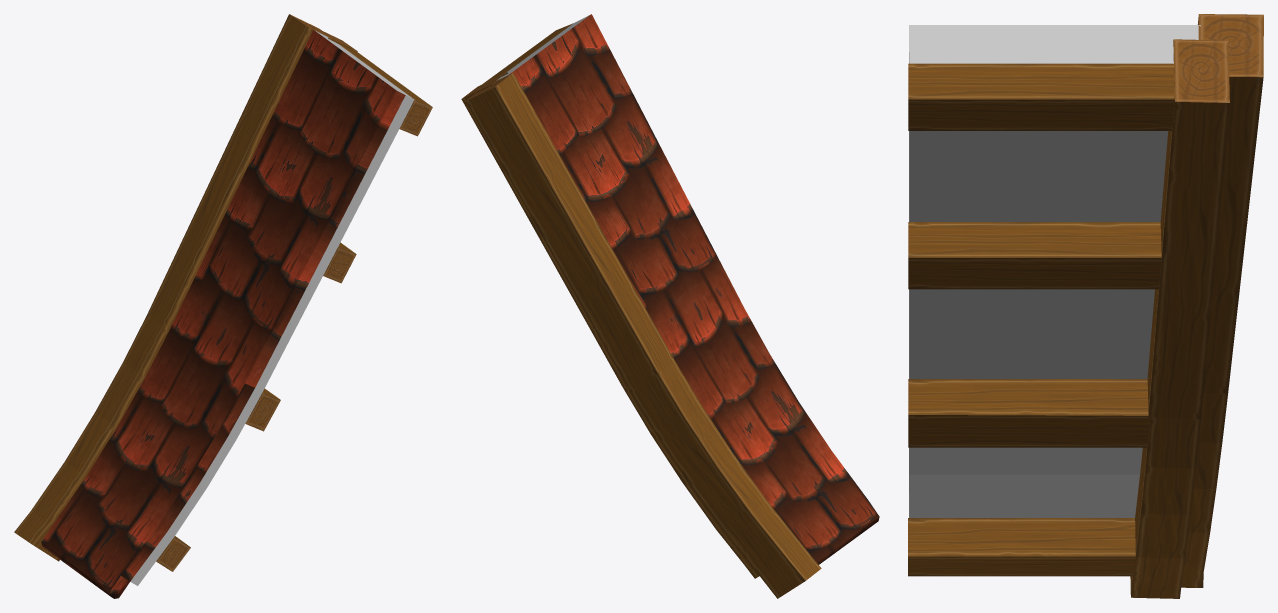
The model's file is SM_House_Roof_01_End_Base.fbx.
The picture shows the model from 3 angles, left to right: view 1: azimuth 30°, elevation 25°; view 2: azimuth 150°, elevation 25°; view 3: azimuth 270°, elevation 25°; orthographic projection. The views are drawn at different scales.
Parts seen in each view (by area): view 1: SM_House_Roof_01_End_Base; view 2: SM_House_Roof_01_End_Base; view 3: SM_House_Roof_01_End_Base.
Part boxes in pixels (<box>): SM_House_Roof_01_End_Base: <box>14,14,432,598</box>; SM_House_Roof_01_End_Base: <box>461,14,879,598</box>; SM_House_Roof_01_End_Base: <box>908,14,1263,598</box>.
Size of the model in its own units: 3.14 by 4.11 by 1.66.
